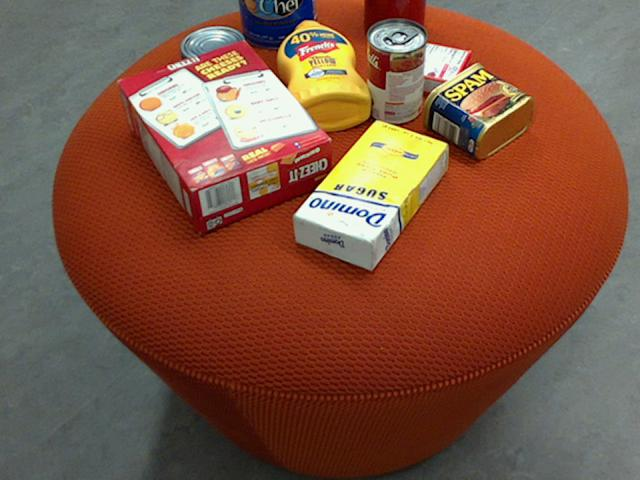cracker_box: (114, 38, 331, 230)
gelatin_box: (386, 39, 471, 98)
large_marker: (383, 0, 399, 35)
master_chef_can: (237, 0, 316, 47)
mug: (362, 0, 425, 41)
mustard_bottle: (276, 20, 369, 131)
potted_meat_can: (420, 62, 531, 159)
sugar_box: (293, 118, 448, 271)
tomato_soup_can: (366, 17, 426, 123)
tuna_fish_can: (177, 26, 247, 83)
